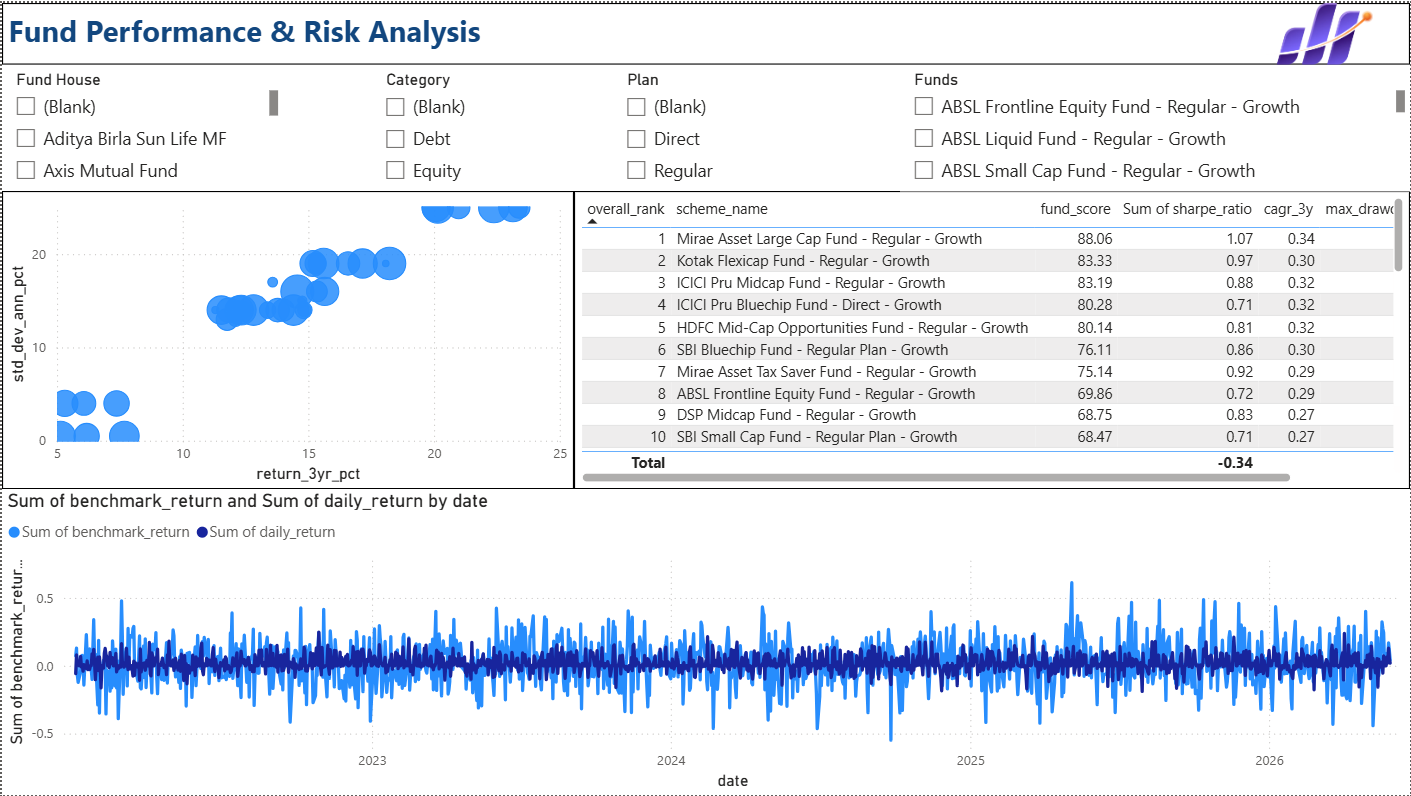

This screenshot's page, from the dashboard's own definition file:
{"tool":"powerbi","page":{"name":"Fund Performance","canvas":[1280,720],"ordinal":1},"visuals":[{"type":"textbox","box":[0,0,1280,56],"z":0},{"type":"slicer","fields":{"Values":["Fund Master.fund_house"]},"box":[0,56,256,115],"z":1000},{"type":"slicer","fields":{"Values":["Fund Master.category"]},"box":[336,56,230,115],"z":2000},{"type":"slicer","fields":{"Values":["Fund Master.plan"]},"box":[555,56,230,115],"z":3000},{"type":"tableEx","fields":{"Values":["Fund Scorecard.overall_rank","Fund Scorecard.scheme_name","Fund Scorecard.fund_score","Sum(Fund Scorecard.sharpe_ratio)","Fund Scorecard.cagr_3y","Fund Scorecard.max_drawdown","Fund Scorecard.amfi_code"]},"box":[520,171,760,271],"z":4000},{"type":"scatterChart","fields":{"X":["Scheme Performance.return_3yr_pct"],"Y":["Scheme Performance.std_dev_ann_pct"],"Size":["Avg(Scheme Performance.aum_crore)"]},"box":[0,171,520,271],"z":5000},{"type":"lineChart","fields":{"Category":["Nav vs Benchmark.date"],"Y":["Sum(Nav vs Benchmark.benchmark_return)","Sum(Nav vs Benchmark.daily_return)"]},"box":[0,442,1280,278],"z":6000},{"type":"slicer","fields":{"Values":["Nav vs Benchmark.scheme_name"]},"box":[816,56,464,115],"z":7000},{"type":"image","box":[1106,0,174,56],"z":7001}]}

Visuals, with their boxes in screenshot pixels (x1, y1, x2, y2), scaled from the page's 1280x720 canvas onto the 1411x796 screenshot:
textbox: Rect(0, 0, 1410, 62)
slicer - Fund Master.fund_house: Rect(0, 62, 282, 189)
slicer - Fund Master.category: Rect(370, 62, 624, 189)
slicer - Fund Master.plan: Rect(612, 62, 865, 189)
tableEx - Fund Scorecard.overall_rank x Fund Scorecard.scheme_name: Rect(573, 189, 1410, 489)
scatterChart - Scheme Performance.return_3yr_pct x Scheme Performance.std_dev_ann_pct: Rect(0, 189, 573, 489)
lineChart - Nav vs Benchmark.date x Sum(Nav vs Benchmark.benchmark_return): Rect(0, 489, 1410, 795)
slicer - Nav vs Benchmark.scheme_name: Rect(900, 62, 1410, 189)
image: Rect(1219, 0, 1410, 62)
